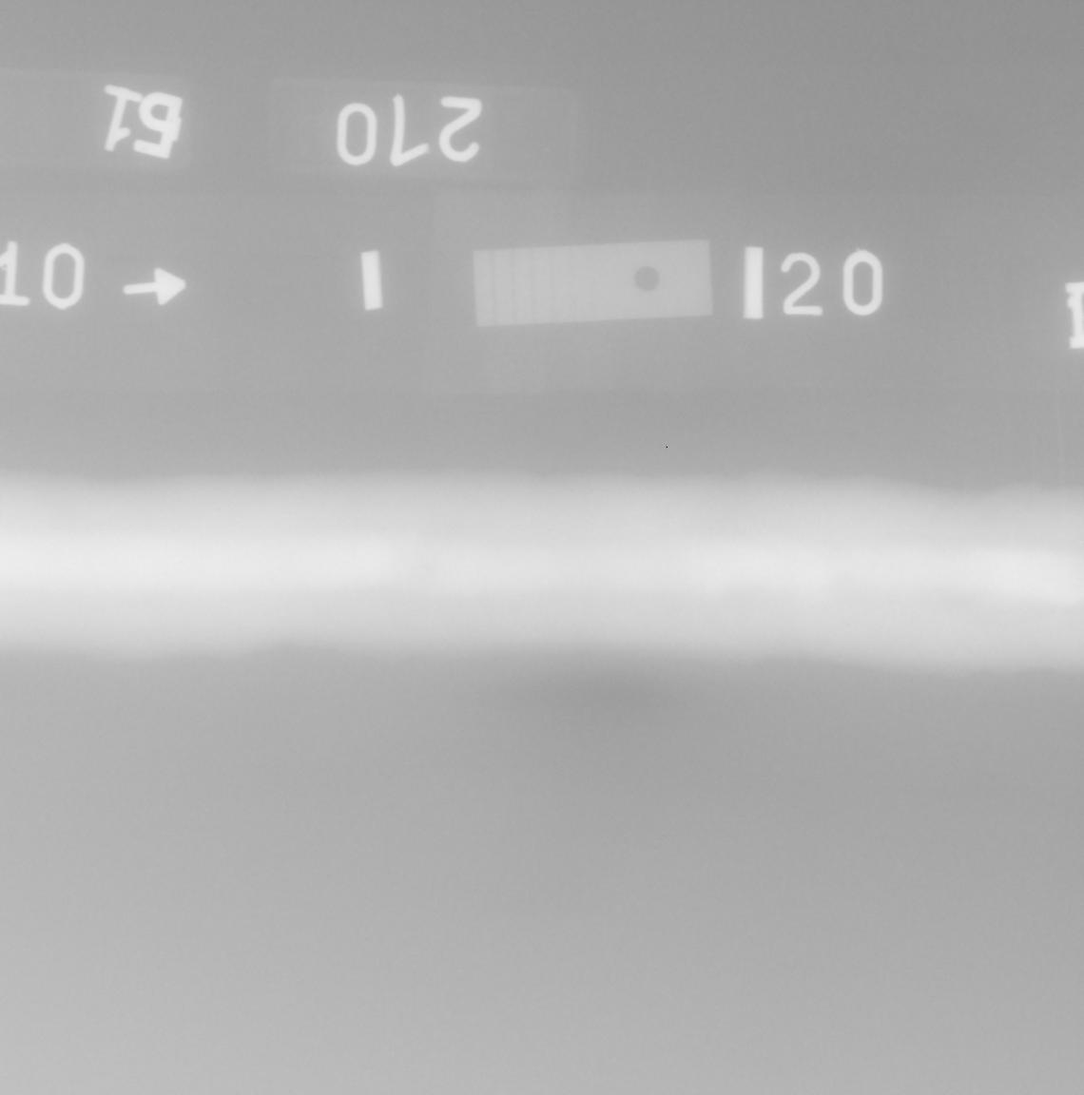Pore/Porosity: (845, 622, 851, 629), (419, 565, 426, 569)
Reference Standard 1: (473, 239, 713, 327)
